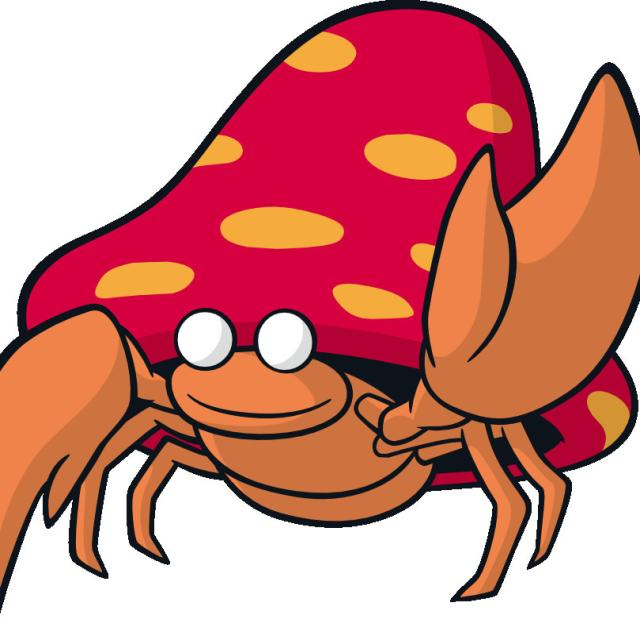Parasect: (18, 27, 584, 555)
